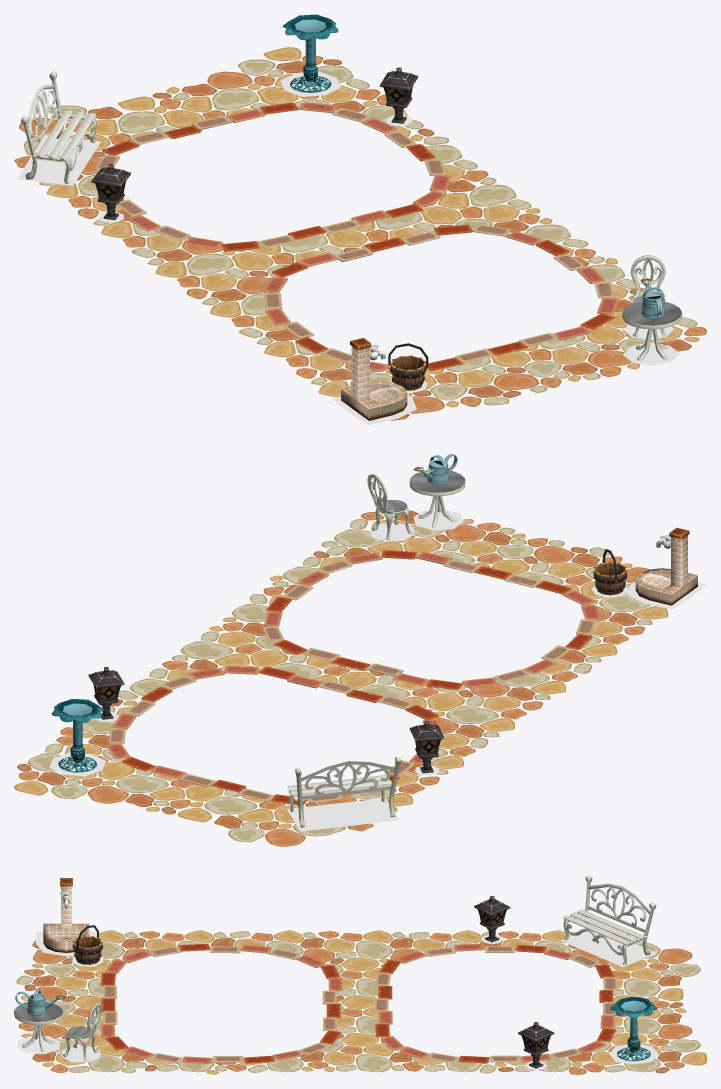
File: fobj_mcs_gdn_smat_cmps.fbx
3 views of the same model, one above another, from view 1: azimuth 30°, elevation 25°; view 2: azimuth 150°, elevation 25°; view 3: azimuth 270°, elevation 25° (orthographic). The views are drawn at different scales.
Visible parts, largest first — view 1: fobj_mcs_gdn_smat_cmps, shadow; view 2: fobj_mcs_gdn_smat_cmps, shadow; view 3: fobj_mcs_gdn_smat_cmps, shadow, lamp_add.
Boxes of the visible parts, x1,y1,x2,y2 form: fobj_mcs_gdn_smat_cmps: (14,14,706,420); shadow: (17,71,679,425); fobj_mcs_gdn_smat_cmps: (14,454,697,846); shadow: (49,509,706,831); fobj_mcs_gdn_smat_cmps: (14,875,706,1074); shadow: (17,931,658,1070); lamp_add: (480,910,547,1050).
Bounding box in the file's own units: 0.7007 × 0.1232 × 1.39.
5 materials, 4 textured.
